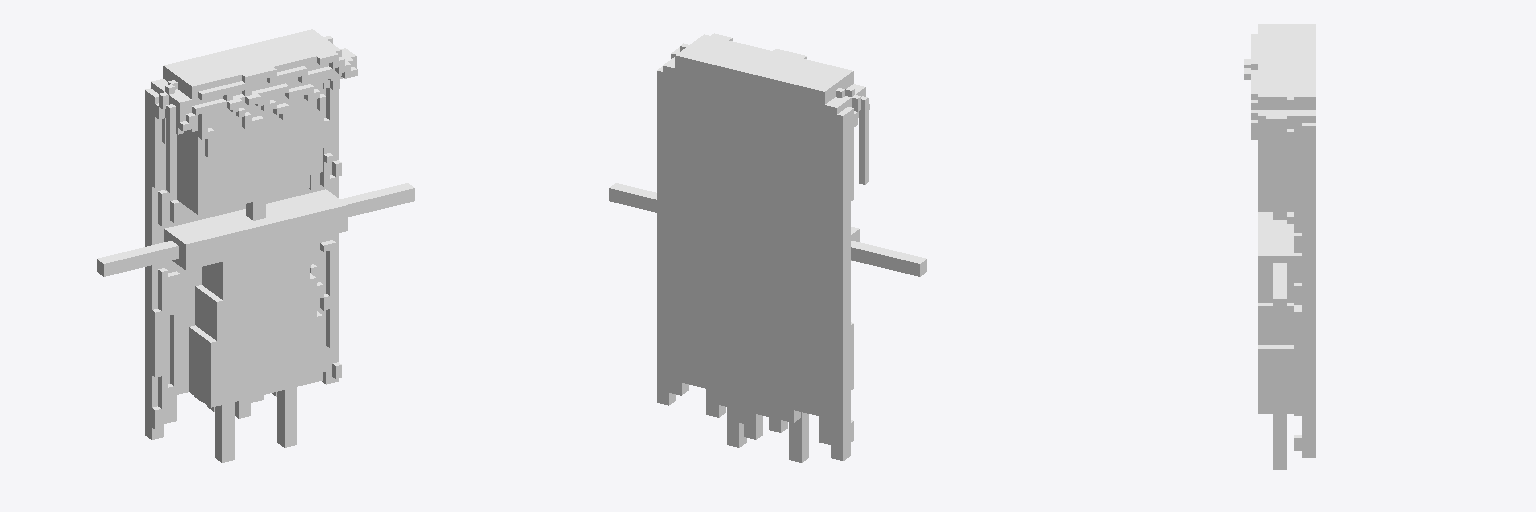
Rendered from Kid3.obj.
3 renders of one model, left to right at view 1: azimuth 30°, elevation 25°; view 2: azimuth 150°, elevation 25°; view 3: azimuth 270°, elevation 25°, orthographic.
Parts seen in each view (by area): view 1: Kid3; view 2: Kid3; view 3: Kid3.
Part boxes in pixels (x1,y1,x2,y2): Kid3: (97,29,414,462); Kid3: (609,33,926,462); Kid3: (1244,24,1315,469).
Size of the model in its own units: 50 by 60 by 10.